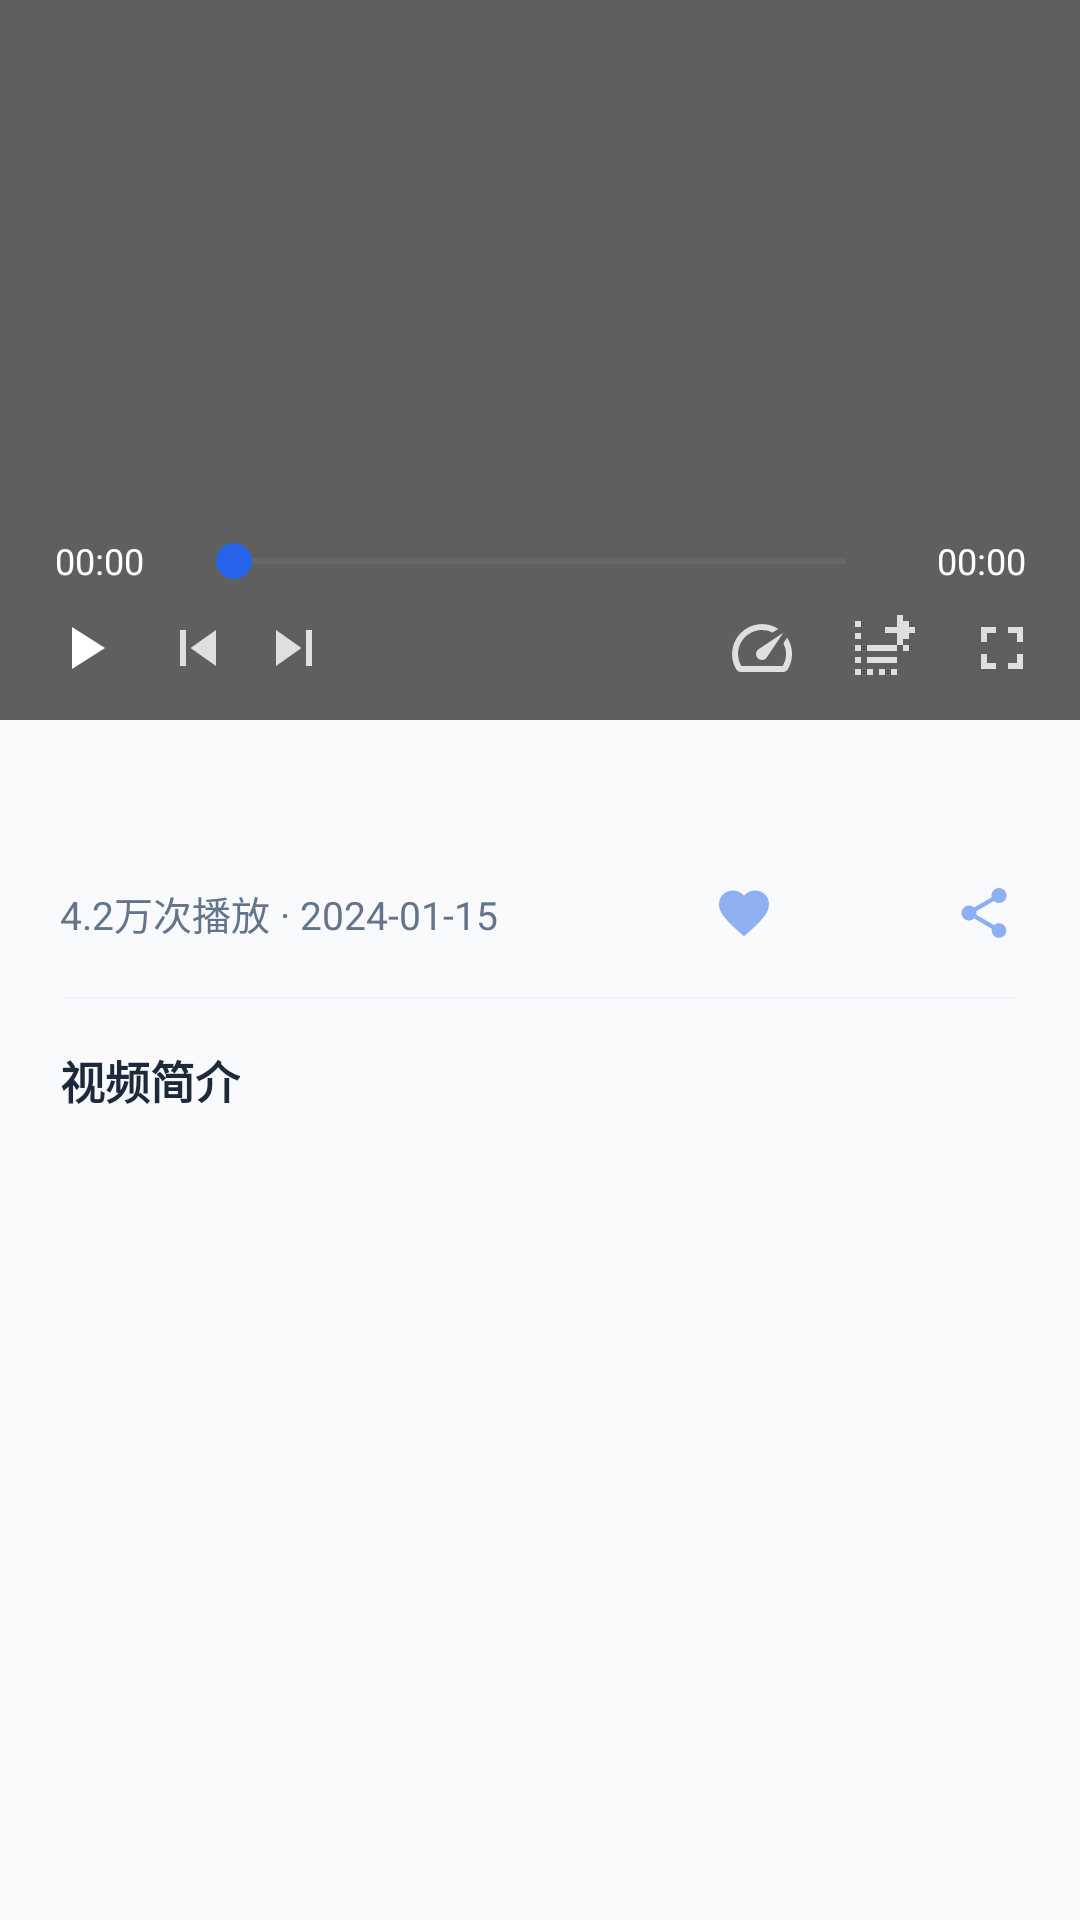

Icons on this 1080px x 1920px Android screen, each with the point to tap as (x,y):
fullscreen: (1002,648)
like: (744,913)
play: (88,648)
share: (984,913)
skip back: (198,648)
skip forward: (294,648)
speed: (762,648)
